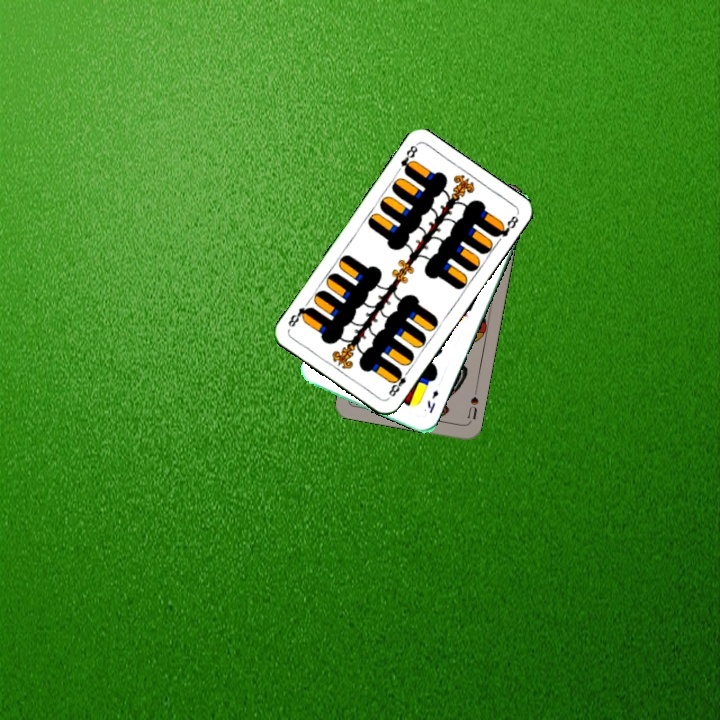E8: (384, 365, 413, 399), (397, 141, 420, 177)
EK: (423, 386, 441, 416)
SU: (463, 385, 481, 425)
